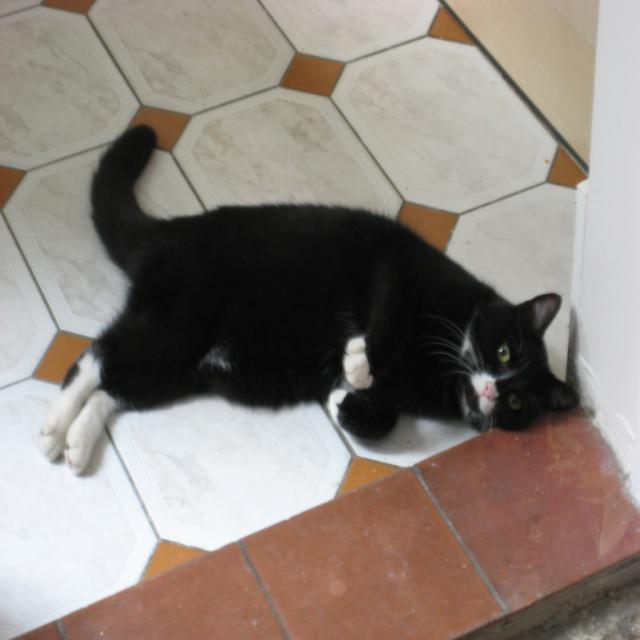Cat: (40, 124, 579, 474)
